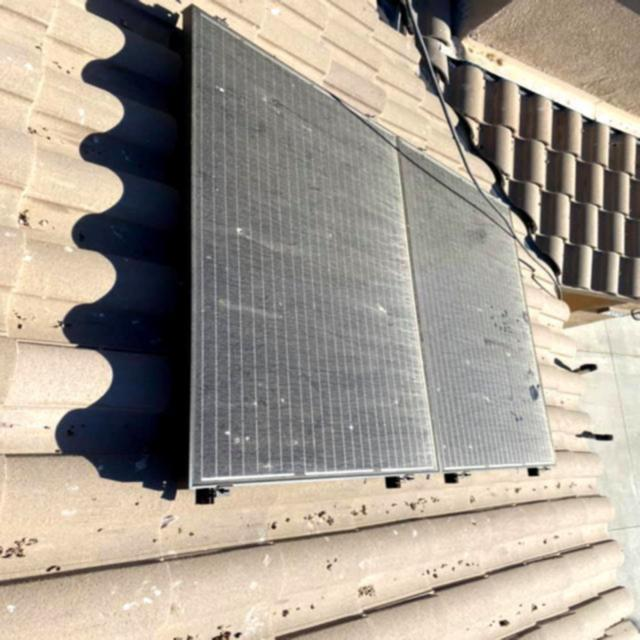soiled: (176, 5, 573, 496)
